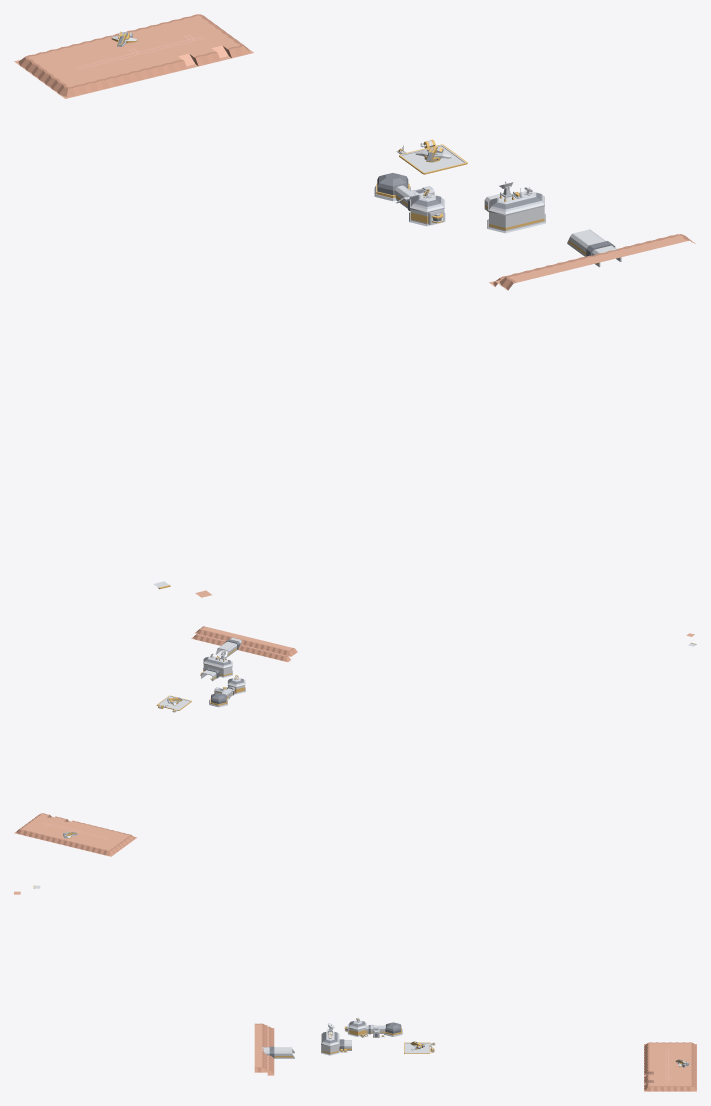
Rendered from moon-base.glb.
The picture shows the model from 3 angles, top to bottom: view 1: azimuth 30°, elevation 25°; view 2: azimuth 150°, elevation 25°; view 3: azimuth 270°, elevation 25°; orthographic projection. The views are drawn at different scales.
Visible parts, largest first — view 1: hangar_roundA; view 2: hangar_roundA; view 3: hangar_roundA.
Boxes of the visible parts, left/top/right/bottom form: hangar_roundA: left=487, top=191, right=545, bottom=233; hangar_roundA: left=203, top=656, right=232, bottom=677; hangar_roundA: left=321, top=1031, right=339, bottom=1055.
Size of the model in its own units: 67.58 by 9.16 by 103.
